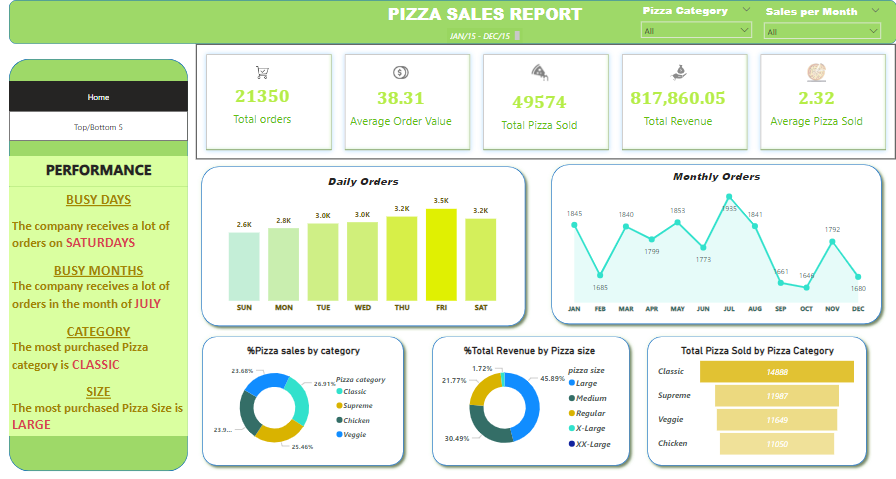

The dashboard page shown, as its layout file describes it:
{"tool":"powerbi","page":{"name":"Home","canvas":[1500,820],"ordinal":0},"visuals":[{"type":"shape","box":[19.7,98.4,298.4,686.9],"z":0},{"type":"cardVisual","fields":{"Data":["pizza_sales.Total orders","pizza_sales.Average Order Value","pizza_sales.Total Pizza Sold","pizza_sales.Total Revenue","pizza_sales.Average Pizza Sold"]},"box":[331.6,73.7,1165.8,192.1],"z":1000},{"type":"shape","box":[20,0,1480,73.3],"z":2000},{"type":"textbox","box":[626.3,0,373.7,47.4],"z":3000},{"type":"textbox","box":[750,47.4,126.3,26.3],"z":4000},{"type":"shape","box":[331.6,268.4,557.9,284.2],"z":5000},{"type":"columnChart","title":"Daily Orders","fields":{"Category":["pizza_sales.Order Name"],"Y":["pizza_sales.Total orders"]},"box":[355.6,290.5,509.5,241.3],"z":6000},{"type":"shape","box":[915.8,265.8,568.4,284.2],"z":7000},{"type":"areaChart","title":"Monthly Orders","fields":{"Category":["pizza_sales.Order Month"],"Y":["pizza_sales.Total orders"]},"box":[939.7,281,517.5,250.8],"z":8000},{"type":"shape","box":[333.3,551.7,353.3,233.3],"z":9000},{"type":"shape","box":[716.7,551.7,346.7,233.3],"z":10000},{"type":"shape","box":[1075,551.7,383.3,233.3],"z":11000},{"type":"donutChart","title":"%Pizza sales by category","fields":{"Category":["pizza_sales.pizza_category"],"Y":["pizza_sales.Total Revenue"]},"box":[355,573.3,311.7,193.3],"z":12000},{"type":"donutChart","title":"%Total Revenue by Pizza size","fields":{"Category":["pizza_sales.pizza_size"],"Y":["pizza_sales.Total Revenue"]},"box":[735,573.3,305,193.3],"z":13000},{"type":"funnel","title":"Total Pizza Sold by Pizza Category","fields":{"Category":["pizza_sales.pizza_category"],"Y":["pizza_sales.Total Pizza Sold"]},"box":[1096.7,573.3,341.7,193.3],"z":14000},{"type":"textbox","box":[19.7,311.5,298.4,219.7],"z":15000},{"type":"textbox","box":[19.7,260.7,298.4,50.8],"z":16000},{"type":"textbox","box":[19.7,531.1,298.4,195.1],"z":17000},{"type":"slicer","fields":{"Values":["pizza_sales.pizza_category"]},"box":[1063.3,0,205,70],"z":18000},{"type":"slicer","fields":{"Values":["pizza_sales.Order Month"]},"box":[1268.3,1.7,215,70],"z":19000},{"type":"pageNavigator","box":[19.7,134.4,298.4,50.8],"z":19001},{"type":"pageNavigator","box":[19.7,185.2,298.4,50.8],"z":19002}]}

Visuals, with their boxes in screenshot pixels (x1, y1, x2, y2), scaled from the page's 1500x820 canvas onto the 896x479 screenshot:
shape: (12,57,190,459)
cardVisual - pizza_sales.Total orders x pizza_sales.Average Order Value: (198,43,894,155)
shape: (12,0,895,43)
textbox: (374,0,597,28)
textbox: (448,28,523,43)
shape: (198,157,531,323)
"Daily Orders" columnChart: (212,170,517,311)
shape: (547,155,887,321)
"Monthly Orders" areaChart: (561,164,870,311)
shape: (199,322,410,459)
shape: (428,322,635,459)
shape: (642,322,871,459)
"%Pizza sales by category" donutChart: (212,335,398,448)
"%Total Revenue by Pizza size" donutChart: (439,335,621,448)
"Total Pizza Sold by Pizza Category" funnel: (655,335,859,448)
textbox: (12,182,190,310)
textbox: (12,152,190,182)
textbox: (12,310,190,424)
slicer - pizza_sales.pizza_category: (635,0,758,41)
slicer - pizza_sales.Order Month: (758,1,886,42)
pageNavigator: (12,79,190,108)
pageNavigator: (12,108,190,138)
